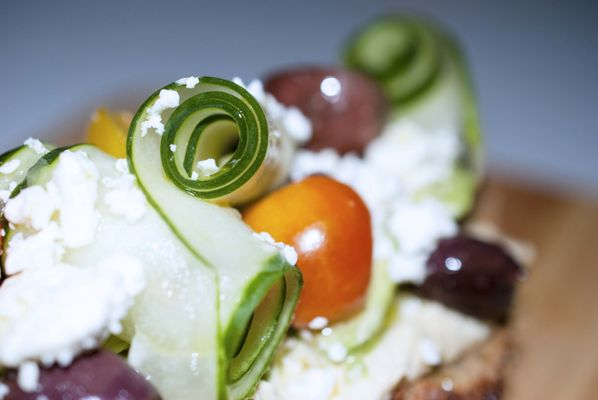taco: (243, 174, 373, 329)
